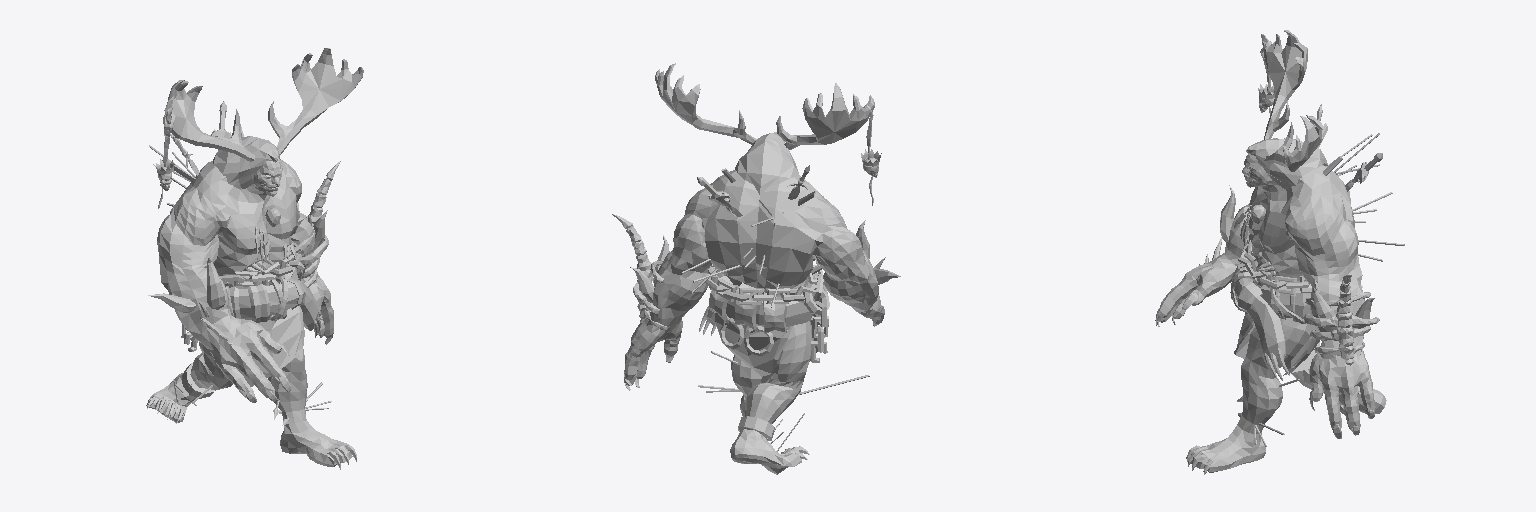
The model's file is walking_000011.obj.
3 views of the same model, side by side, from view 1: azimuth 30°, elevation 25°; view 2: azimuth 150°, elevation 25°; view 3: azimuth 270°, elevation 25° (orthographic).
Visible parts, largest first — view 1: MAW; view 2: MAW; view 3: MAW.
Part boxes in pixels (x1,y1,x2,y2): MAW: (146, 48, 363, 469); MAW: (612, 63, 900, 474); MAW: (1155, 30, 1404, 474).
Bounding box in the file's own units: 15.16 × 22.89 × 13.49.